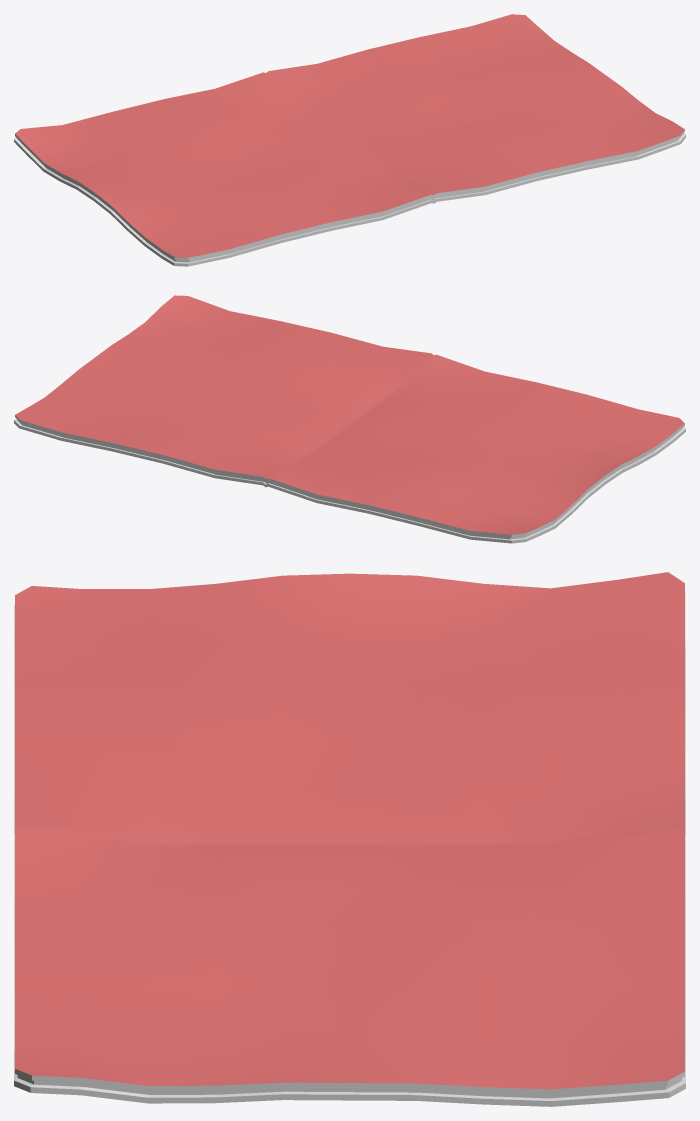
File: Magazine.fbx
The picture shows the model from 3 angles, top to bottom: view 1: azimuth 30°, elevation 25°; view 2: azimuth 150°, elevation 25°; view 3: azimuth 270°, elevation 25°; orthographic projection. The views are drawn at different scales.
Visible parts, largest first — view 1: pPlane1; view 2: pPlane1; view 3: pPlane1.
Part boxes in pixels (left/top/right/bottom): pPlane1: left=14, top=14, right=685, bottom=266; pPlane1: left=14, top=295, right=685, bottom=543; pPlane1: left=14, top=572, right=685, bottom=1106.
Size of the model in its own units: 100 by 3.95 by 57.
